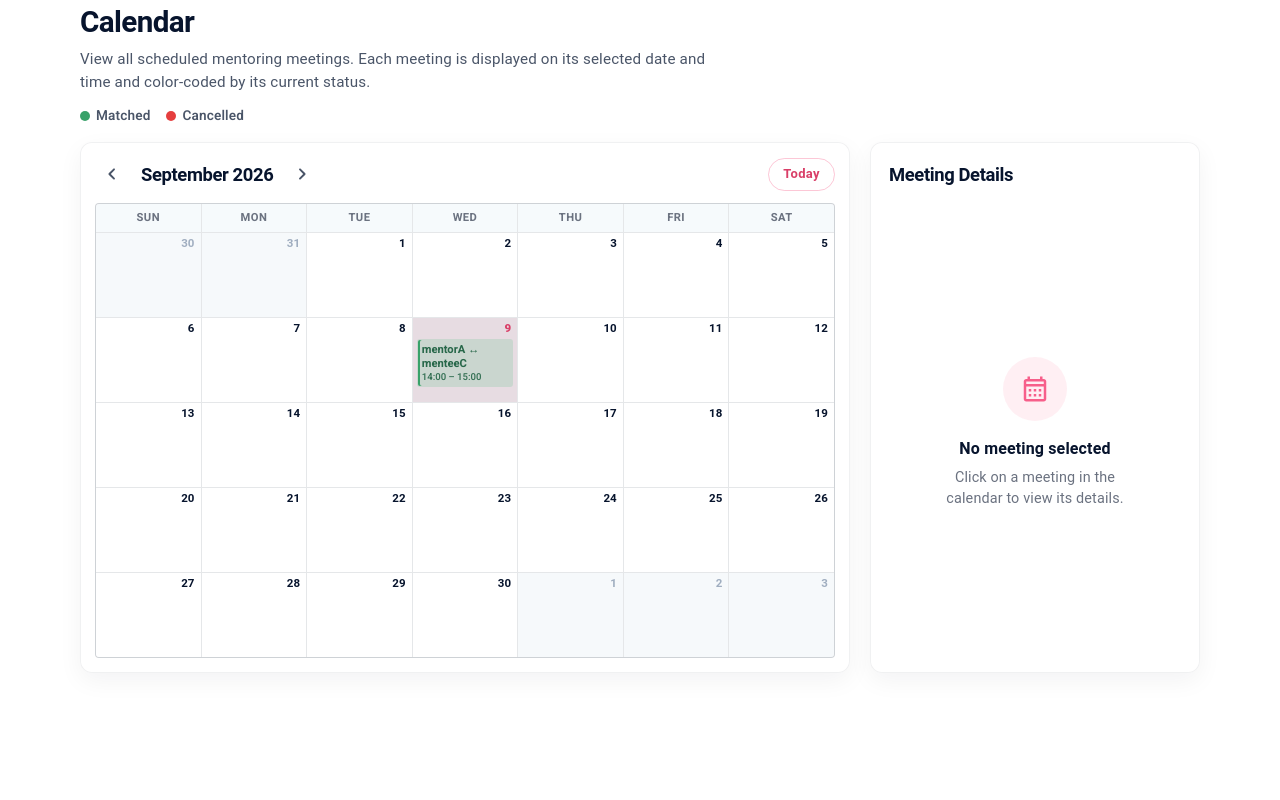
Test: AdminCalendarPage › close button returns panel to empty state without hiding it
Click the button "mentorA ↔ menteeC 14:00 – 15:00": {"x": 465, "y": 363} [417,339,513,387]
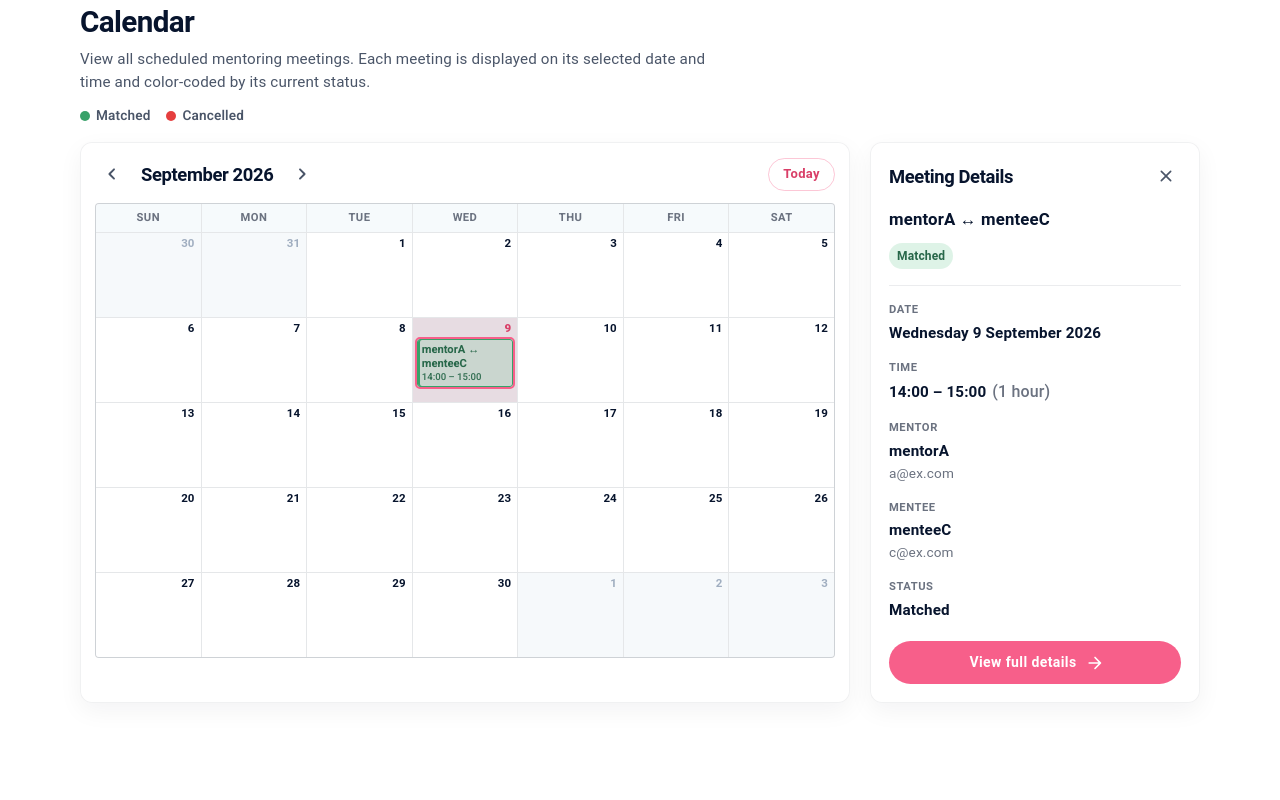
Expected: the text "a@ex.com" is shown, [889,465,954,481]
Click the button named "close meeting details": {"x": 1166, "y": 176} [1151,161,1181,191]
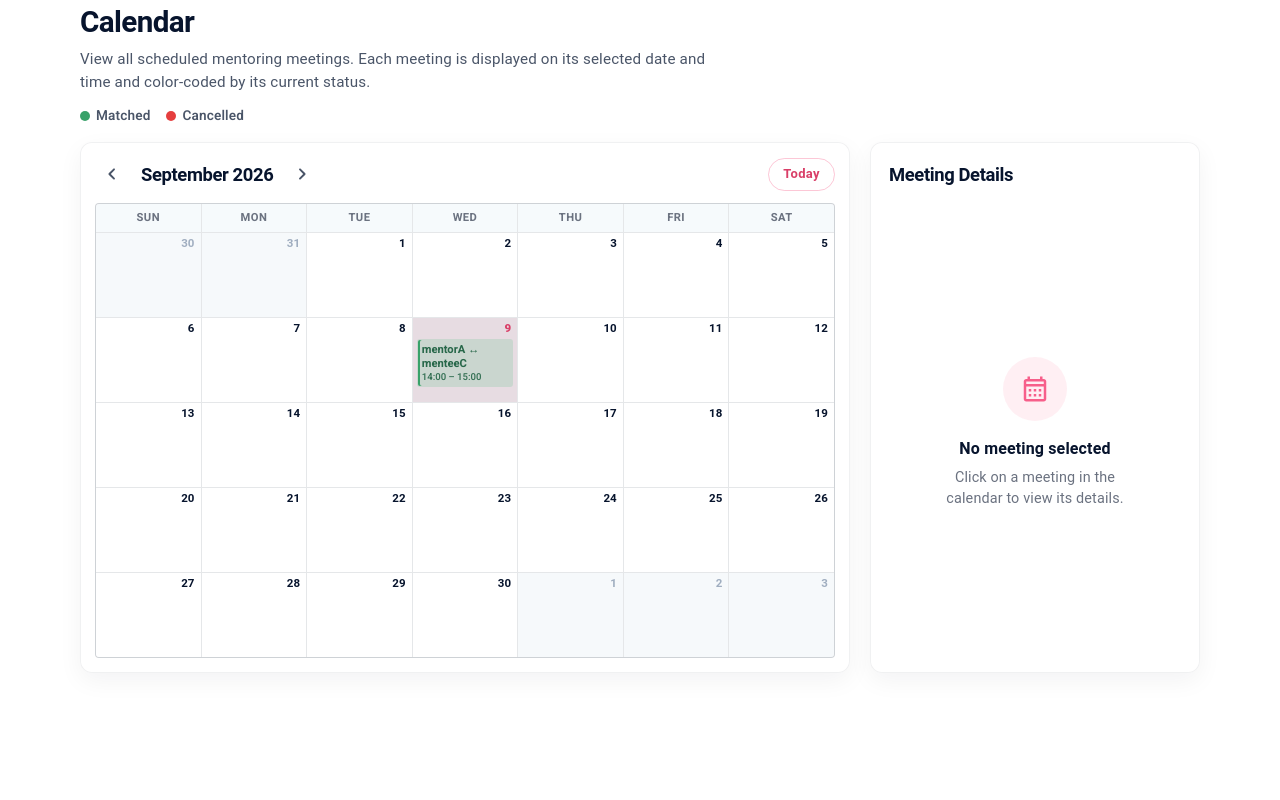
Expected: the heading "Meeting Details" is shown, [889,164,1013,185]
Expected: the text "No meeting selected" is shown, [959,437,1111,461]
Expected: the text "a@ex.com" is gone
